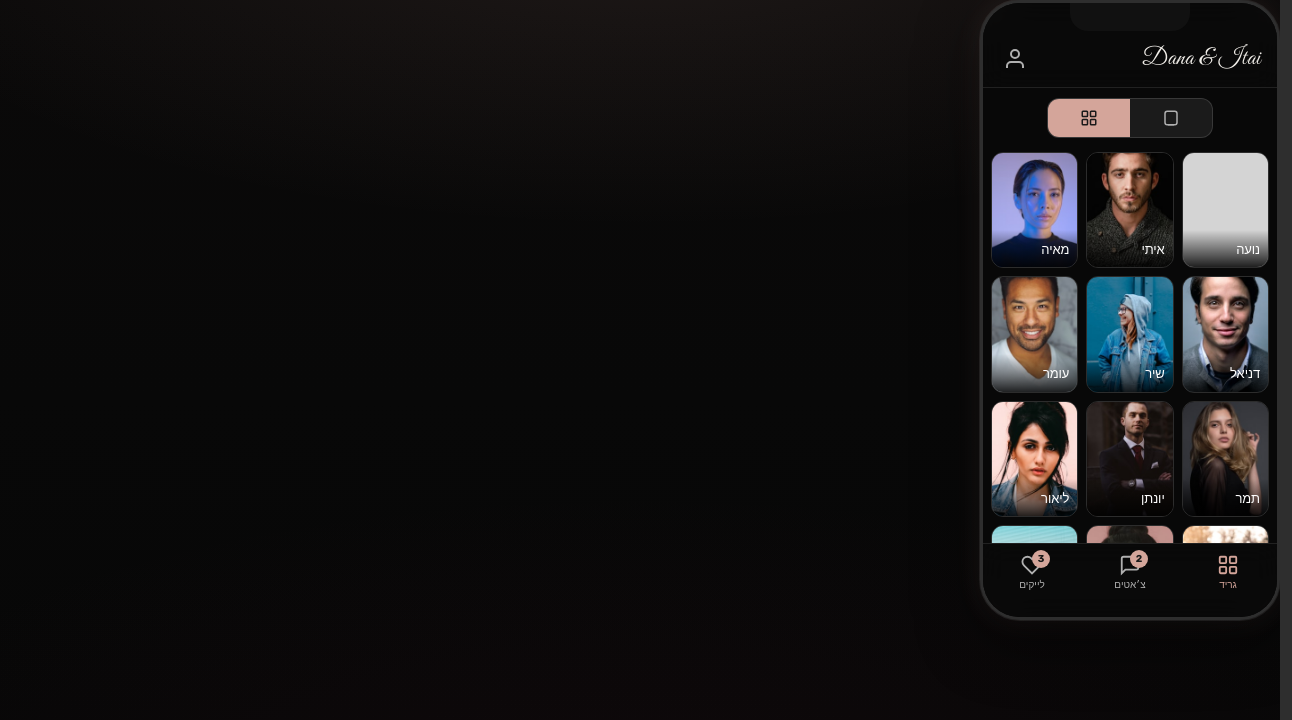
Test: DemoPhone › can navigate to likes tab and shows matches
Click the text "לייקים" at (1032, 586), box x1=1019 y1=578 x2=1045 y2=593
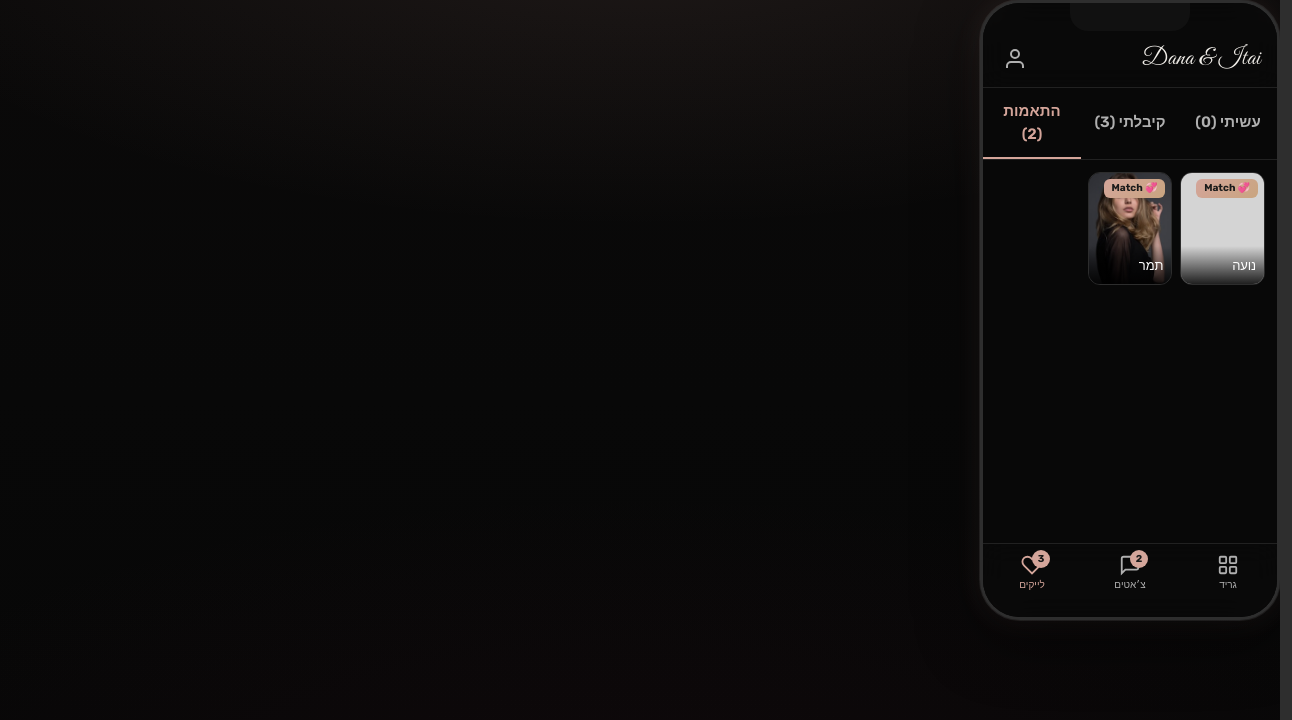
Expected: the button "התאמות (2)" is shown, x1=983 y1=88 x2=1081 y2=159
